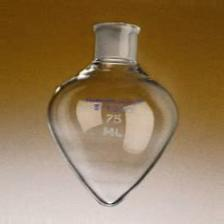Pear shaped flask: (39, 16, 181, 207)
